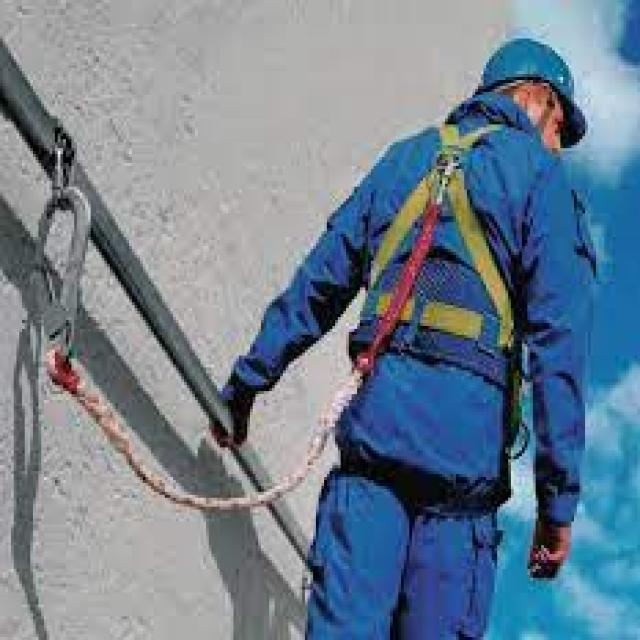harness: (27, 142, 481, 514)
